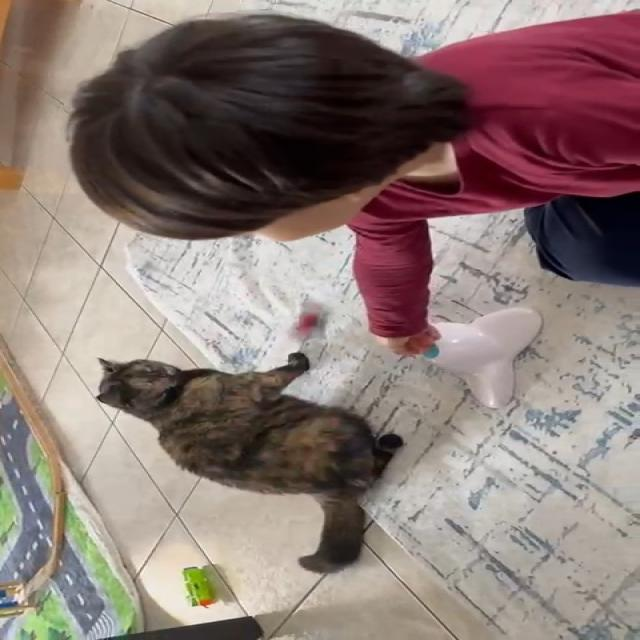authorized: (93, 351, 404, 572)
